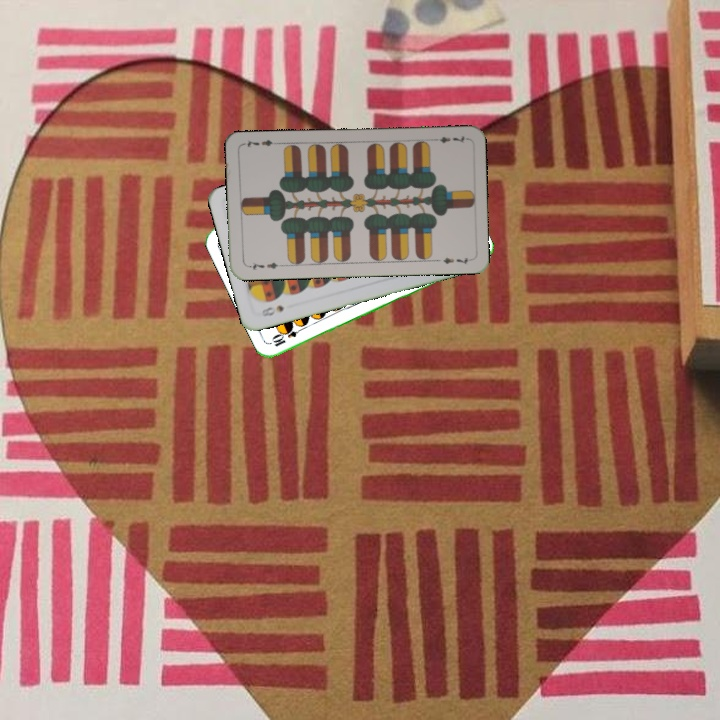E10: (268, 322, 307, 349)
E7: (428, 132, 469, 146), (244, 258, 284, 272)
S8: (258, 301, 286, 319)
